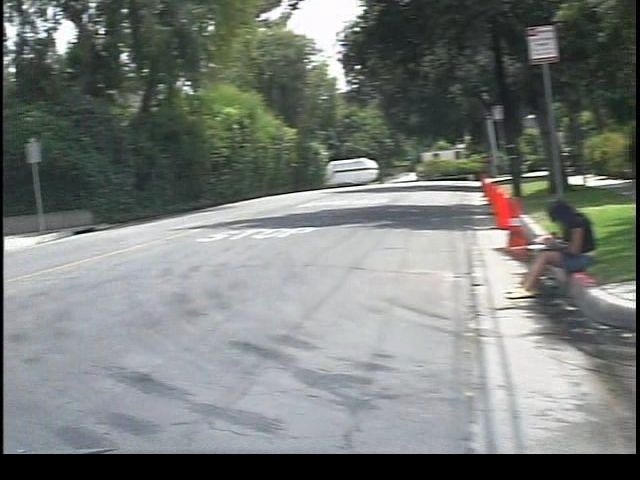person: (481, 194, 580, 302)
